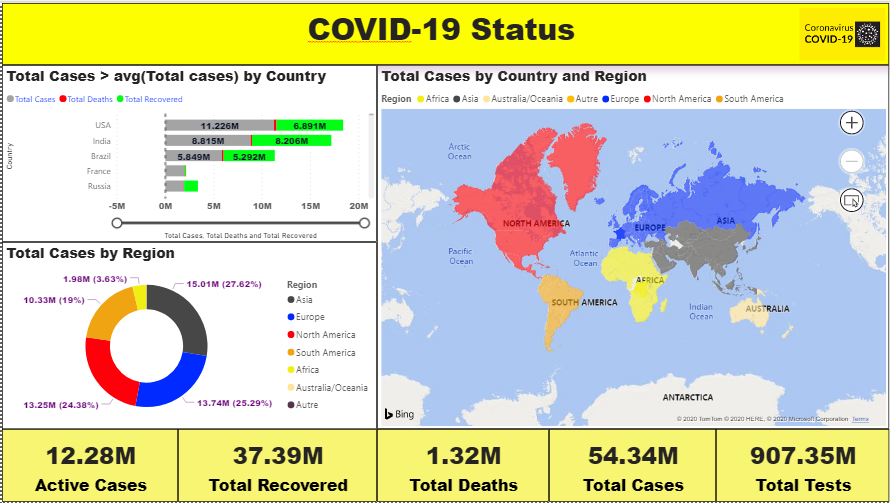

This screenshot's page, from the dashboard's own definition file:
{"tool":"powerbi","page":{"name":"Dashbord_Mysql","canvas":[1280,720],"ordinal":0},"visuals":[{"type":"donutChart","fields":{"Category":["data_covid.Region"],"Y":["Sum(data_covid.Total Cases)"]},"box":[0,344.8,541.1,269.8],"z":0},{"type":"card","fields":{"Values":["Sum(data_covid.Total Tests)"]},"box":[1030.2,614.7,249.6,105.3],"z":1000},{"type":"card","fields":{"Values":["Sum(data_covid.Total Cases)"]},"box":[789.3,614.7,241,105.3],"z":2000},{"type":"card","fields":{"Values":["Sum(data_covid.Total Deaths)"]},"box":[541.1,614.7,248.2,105.3],"z":3000},{"type":"card","fields":{"Values":["Sum(data_covid.Total Recovered)"]},"box":[253.9,614.7,287.1,105.3],"z":4000},{"type":"card","fields":{"Values":["Sum(data_covid.Active Cases)"]},"box":[0,614.7,253.9,105.3],"z":5000},{"type":"filledMap","fields":{"Series":["data_covid.Region"],"Category":["data_covid.Country"]},"box":[541.1,89.5,738.8,525.2],"z":6000},{"type":"textbox","box":[0,0,1279.8,89.5],"z":7000},{"type":"image","box":[1145.7,0,134.2,89.5],"z":8000},{"type":"barChart","title":"Total Cases > avg(Total cases)  by Country","fields":{"Category":["data_covid.Country"],"Y":["Sum(data_covid.Total Cases)","Sum(data_covid.Total Deaths)","Sum(data_covid.Total Recovered)"]},"box":[0,89.5,541.1,255.4],"z":9000}]}

Visuals, with their boxes in screenshot pixels (x1, y1, x2, y2), scaled from the page's 1280x720 canvas onto the 890x503 screenshot:
donutChart - data_covid.Region x Sum(data_covid.Total Cases): {"left": 0, "top": 241, "right": 376, "bottom": 429}
card - Sum(data_covid.Total Tests): {"left": 716, "top": 429, "right": 889, "bottom": 502}
card - Sum(data_covid.Total Cases): {"left": 549, "top": 429, "right": 716, "bottom": 502}
card - Sum(data_covid.Total Deaths): {"left": 376, "top": 429, "right": 549, "bottom": 502}
card - Sum(data_covid.Total Recovered): {"left": 177, "top": 429, "right": 376, "bottom": 502}
card - Sum(data_covid.Active Cases): {"left": 0, "top": 429, "right": 177, "bottom": 502}
filledMap - data_covid.Region x data_covid.Country: {"left": 376, "top": 63, "right": 889, "bottom": 429}
textbox: {"left": 0, "top": 0, "right": 889, "bottom": 63}
image: {"left": 797, "top": 0, "right": 889, "bottom": 63}
"Total Cases > avg(Total cases)  by Country" barChart: {"left": 0, "top": 63, "right": 376, "bottom": 241}
